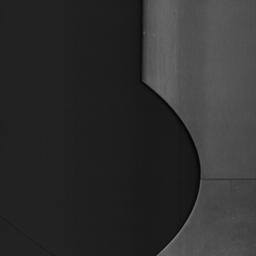Crescent gap: (145, 83, 201, 253)
